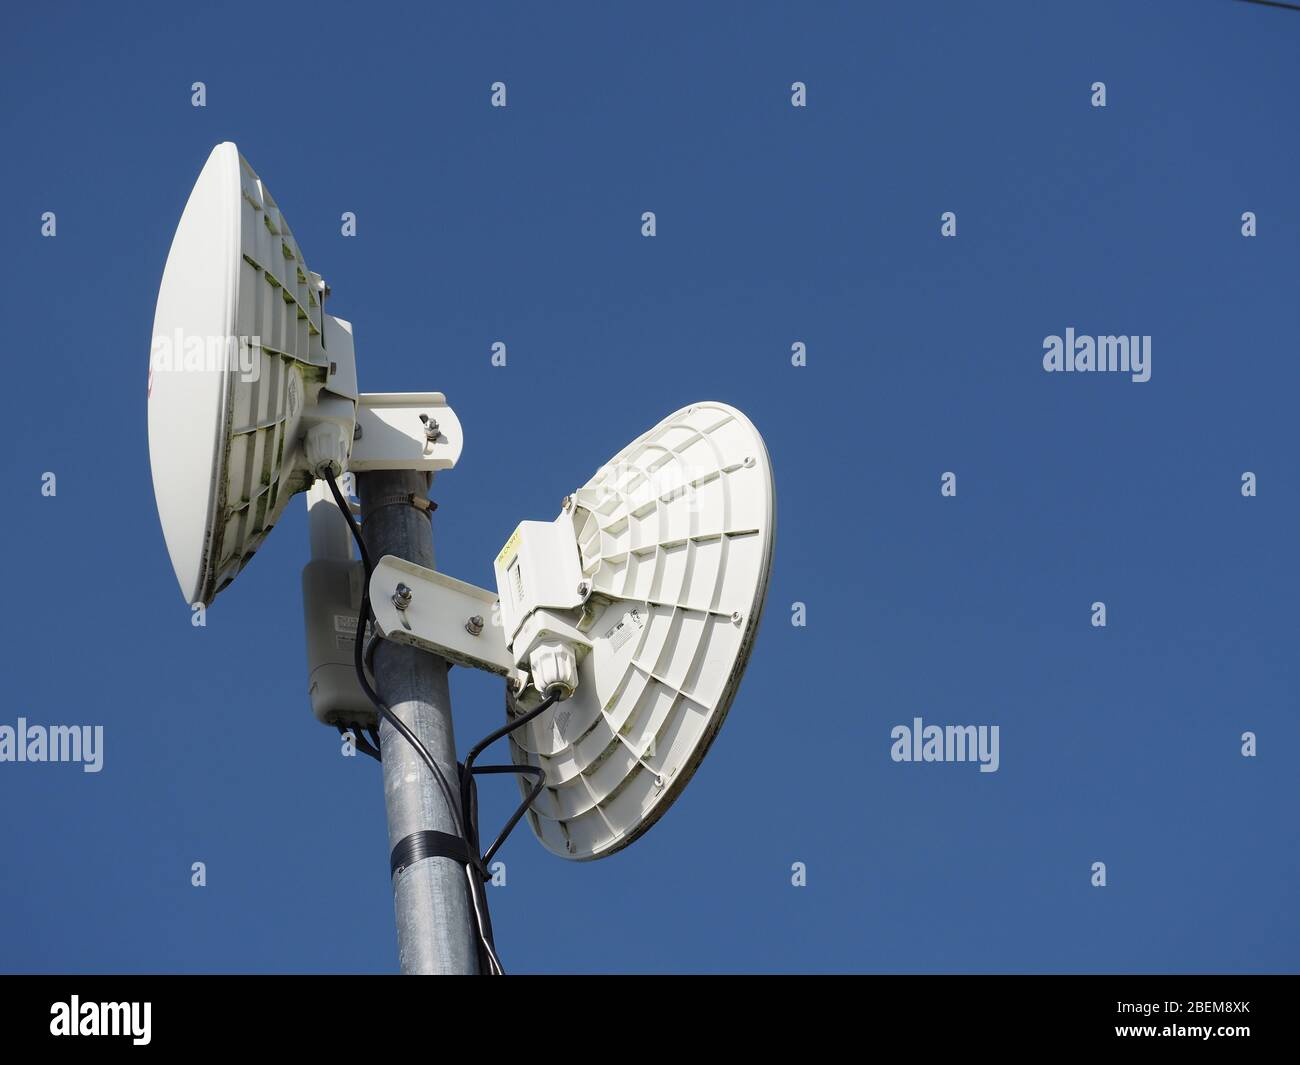ba: (131, 124, 432, 630), (488, 386, 774, 826)
